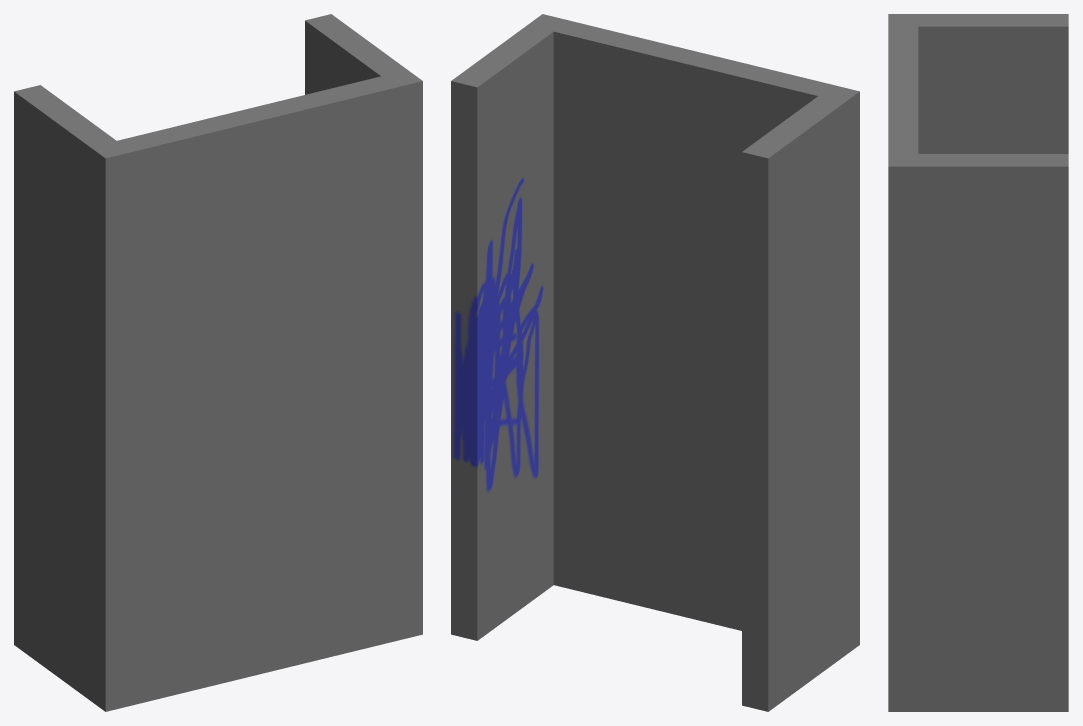
The model's file is PTK_Bridge_Large.fbx.
The picture shows the model from 3 angles, left to right: view 1: azimuth 30°, elevation 25°; view 2: azimuth 150°, elevation 25°; view 3: azimuth 270°, elevation 25°; orthographic projection.
Visible parts, largest first — view 1: node_id4; view 2: node_id4; view 3: node_id4.
Boxes of the visible parts, left/top/right/bottom form: node_id4: left=14, top=14, right=422, bottom=711; node_id4: left=451, top=14, right=859, bottom=711; node_id4: left=888, top=14, right=1068, bottom=711.
Bounding box in the file's own units: 0.3072 × 0.512 × 0.1536.
Materials: 1 (1 with a texture image).
